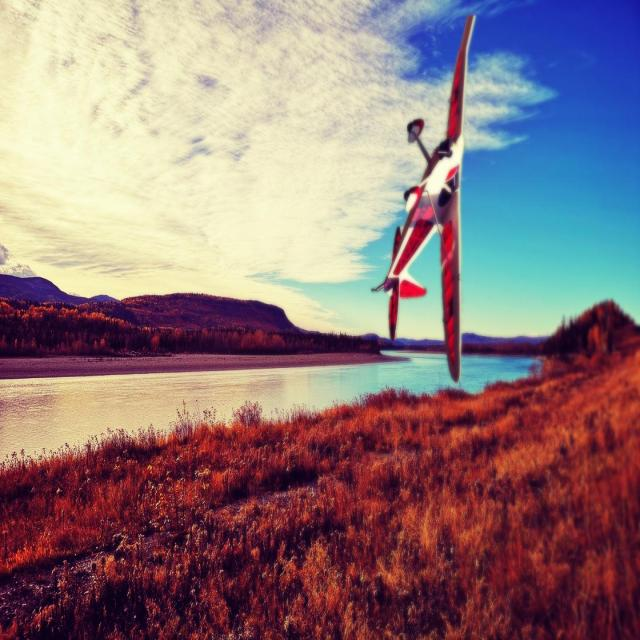airplane: (370, 13, 476, 382)
